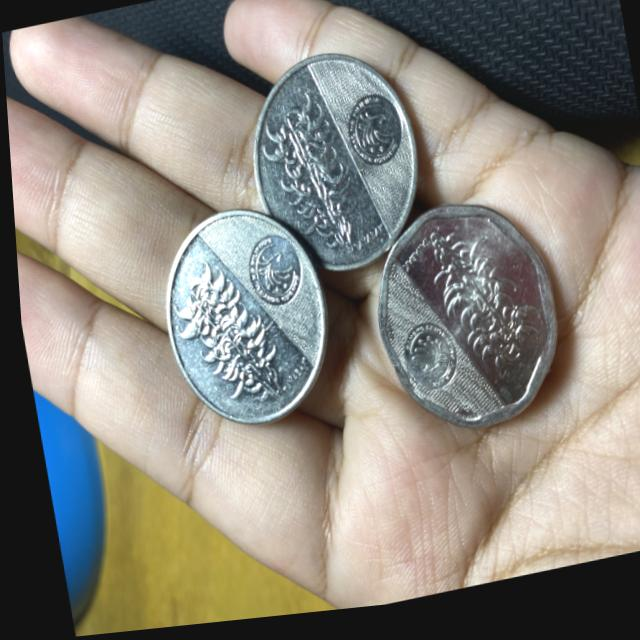5_New_Back: (410, 207, 540, 407), (161, 242, 283, 414), (251, 97, 363, 271)
